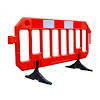barrier: (10, 15, 95, 84)
